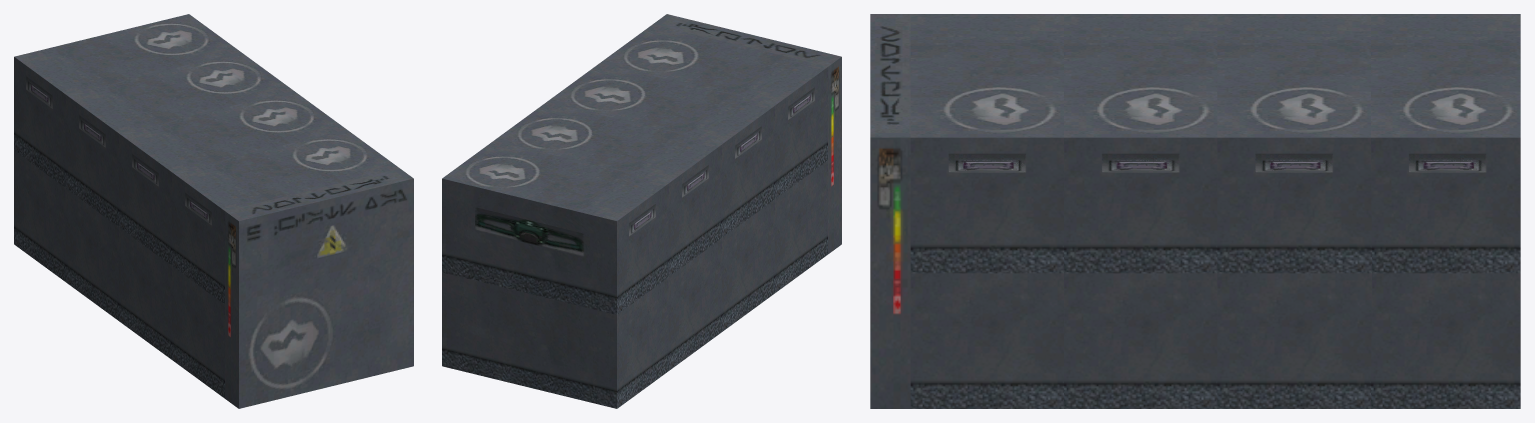
The model's file is con_gen_inorganic_minerals_lg_l1.fbx.
3 renders of one model, left to right at view 1: azimuth 30°, elevation 25°; view 2: azimuth 150°, elevation 25°; view 3: azimuth 270°, elevation 25°, orthographic. The views are drawn at different scales.
Visible parts, largest first — view 1: mesh_node; view 2: mesh_node; view 3: mesh_node.
Boxes of the visible parts, <box> form: mesh_node: <box>14,14,413,408</box>; mesh_node: <box>442,14,841,408</box>; mesh_node: <box>870,14,1520,408</box>.
Bounding box in the file's own units: 1.22 × 1.25 × 2.71.
